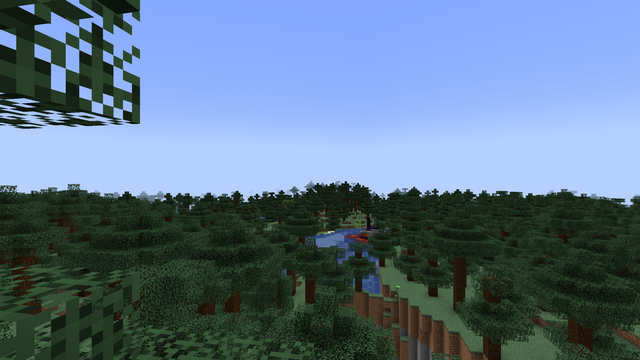creepers: (395, 285, 399, 299)
